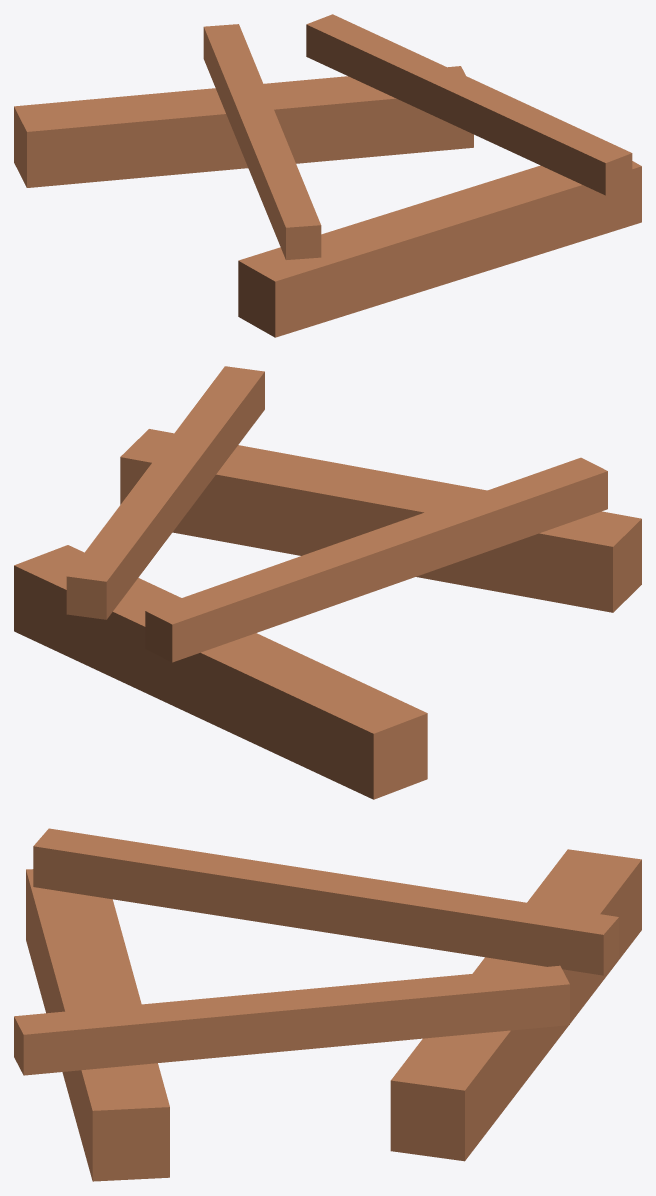
Rendered from fence_broken.fbx.
3 renders of one model, top to bottom at view 1: azimuth 30°, elevation 25°; view 2: azimuth 150°, elevation 25°; view 3: azimuth 270°, elevation 25°, orthographic. The views are drawn at different scales.
Parts seen in each view (by area): view 1: Cube.004, Cube.001, Cube.003, Cube.002; view 2: Cube.001, Cube.004, Cube.002, Cube.003; view 3: Cube.002, Cube.003, Cube.001, Cube.004.
Boxes of the visible parts, bbox=[...] form: Cube.004: bbox=[238, 161, 641, 337]; Cube.001: bbox=[14, 66, 473, 187]; Cube.003: bbox=[306, 14, 632, 195]; Cube.002: bbox=[203, 24, 321, 259]; Cube.001: bbox=[14, 545, 427, 799]; Cube.004: bbox=[120, 429, 641, 612]; Cube.002: bbox=[145, 457, 607, 662]; Cube.003: bbox=[66, 366, 264, 619]; Cube.002: bbox=[33, 828, 618, 975]; Cube.003: bbox=[14, 965, 569, 1075]; Cube.001: bbox=[390, 849, 641, 1161]; Cube.004: bbox=[26, 869, 169, 1181].
Size of the model in its own units: 93.85 by 20.73 by 95.21.
